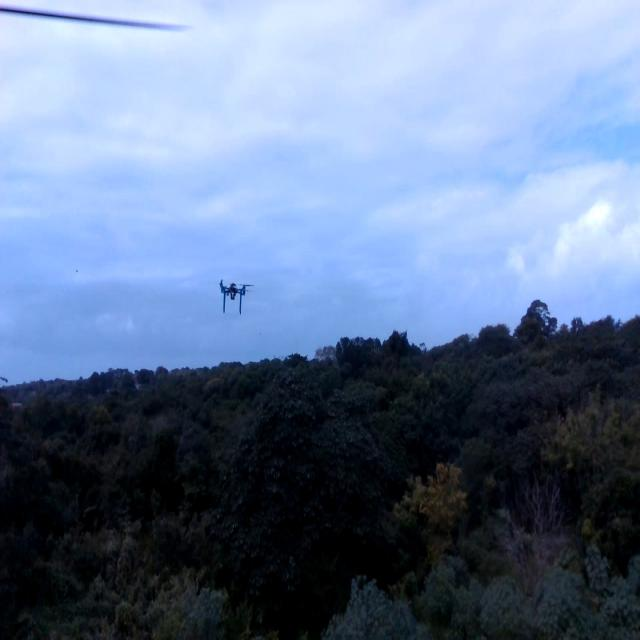-uav-: (212, 273, 256, 323)
